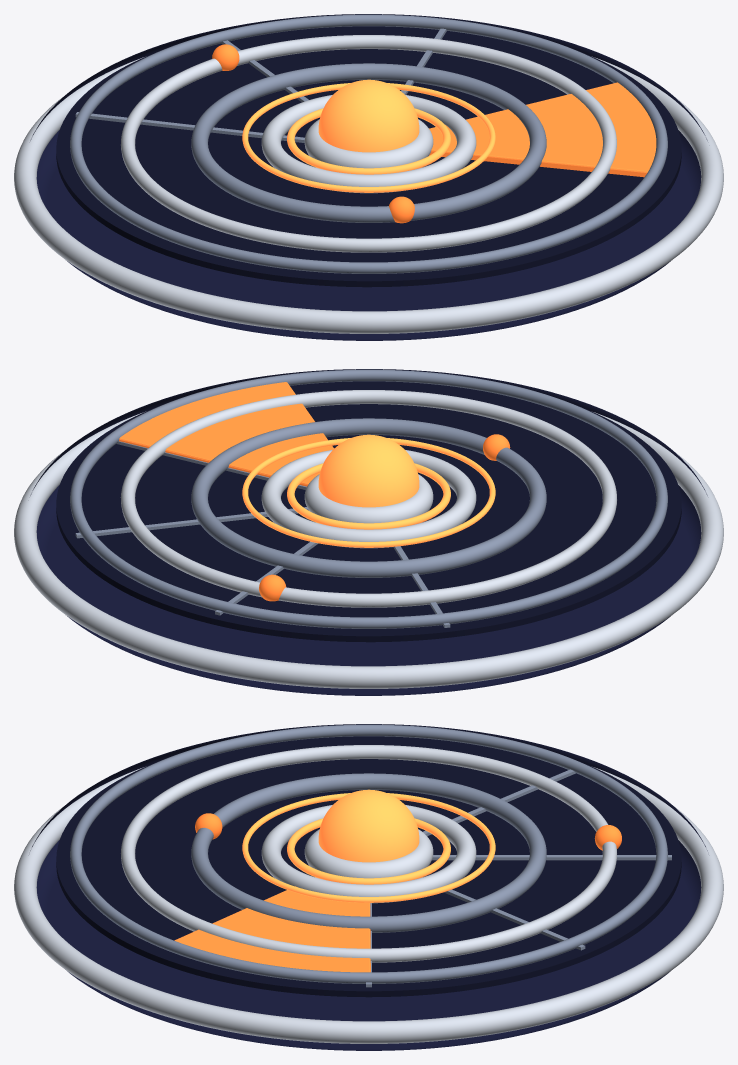
File: radar-icon.glb
3 renders of one model, top to bottom at view 1: azimuth 30°, elevation 25°; view 2: azimuth 150°, elevation 25°; view 3: azimuth 270°, elevation 25°, orthographic.
Parts seen in each view (by area): view 1: dish_face, base_puck, base_collar, ring_4, ring_3, ring_2, sweep_wedge, ring_1, pulse_dot, halo_2, core_bezel, halo_1 (+3 smaller); view 2: dish_face, base_puck, base_collar, ring_4, ring_3, ring_2, sweep_wedge, ring_1, pulse_dot, halo_2, core_bezel, halo_1 (+2 smaller); view 3: dish_face, base_puck, base_collar, ring_4, ring_3, ring_2, sweep_wedge, ring_1, pulse_dot, halo_2, core_bezel, halo_1 (+3 smaller).
Boxes of the visible parts, x1,y1,x2,y2 form: dish_face: (56, 26, 681, 287); base_puck: (30, 14, 707, 340); base_collar: (14, 56, 723, 333); ring_4: (70, 14, 667, 273); ring_3: (121, 35, 616, 252); ring_2: (191, 63, 546, 222); sweep_wedge: (429, 82, 656, 177); ring_1: (261, 95, 476, 193); pulse_dot: (318, 79, 419, 152); halo_2: (242, 83, 495, 192); core_bezel: (304, 119, 433, 168); halo_1: (287, 108, 450, 174); dish_face: (56, 381, 681, 642); base_puck: (30, 369, 707, 695); base_collar: (14, 411, 723, 688); ring_4: (70, 369, 667, 628); ring_3: (120, 390, 616, 607); ring_2: (191, 418, 546, 577); sweep_wedge: (119, 382, 333, 486); ring_1: (261, 450, 476, 548); pulse_dot: (318, 434, 419, 507); halo_2: (242, 438, 495, 547); core_bezel: (304, 474, 433, 523); halo_1: (287, 463, 450, 529); dish_face: (56, 736, 681, 997); base_puck: (30, 724, 707, 1050); base_collar: (14, 767, 723, 1043); ring_4: (70, 724, 667, 983); ring_3: (121, 745, 616, 962); ring_2: (191, 773, 546, 932); sweep_wedge: (174, 886, 370, 972); ring_1: (261, 805, 476, 903); pulse_dot: (318, 789, 419, 862); halo_2: (242, 793, 495, 902); core_bezel: (304, 829, 433, 878); halo_1: (287, 818, 450, 884).
Bounding box in the file's own units: 2.18 × 0.4 × 2.18.
